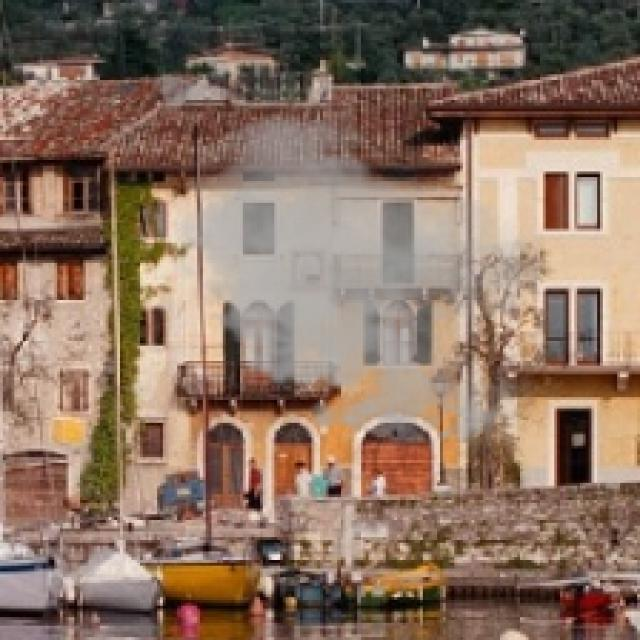Smoke: (165, 106, 546, 454)
